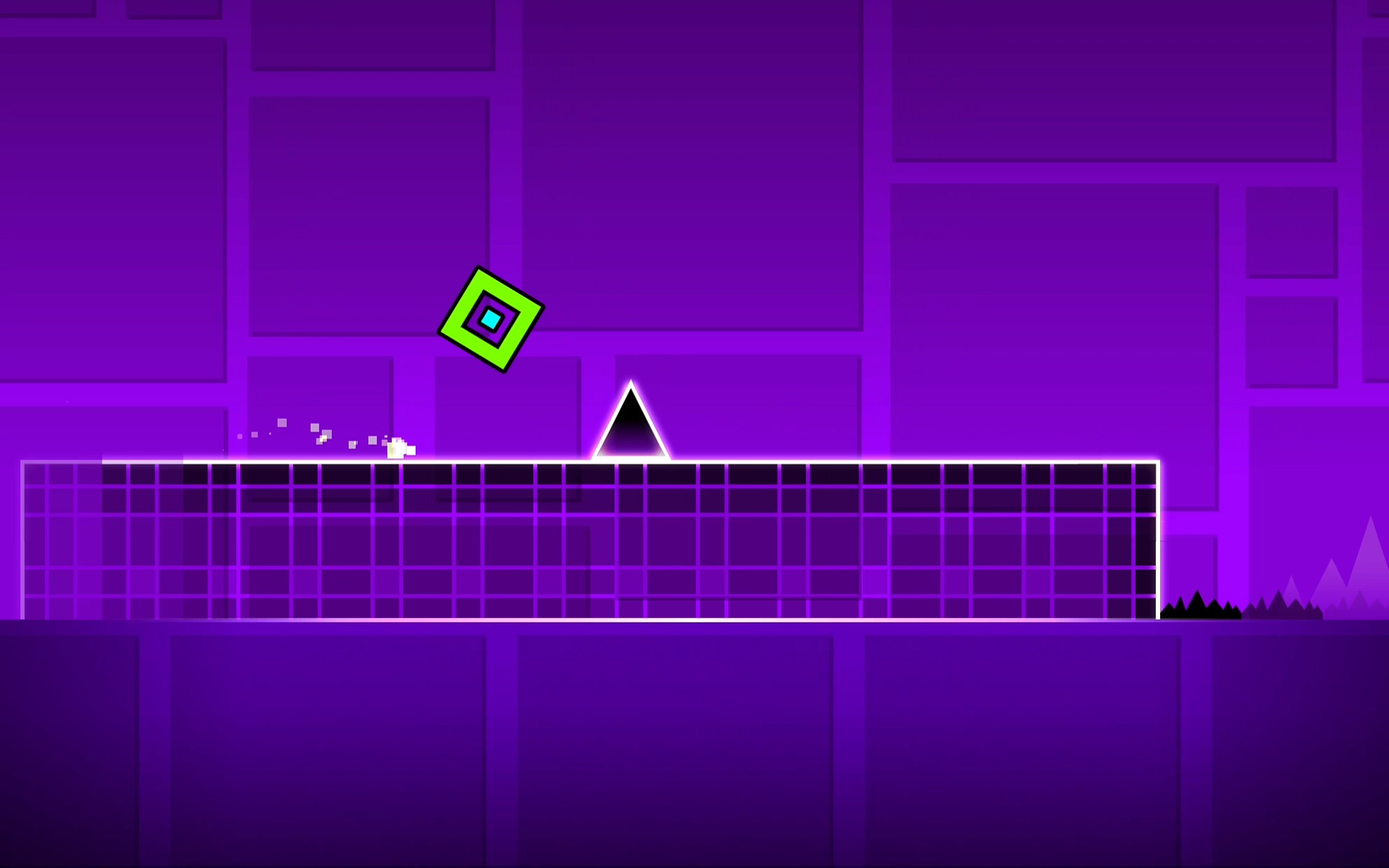Block2: (22, 458, 1165, 611)
Player: (436, 267, 543, 371)
Spike: (592, 382, 668, 458)
Spike3: (1161, 575, 1387, 622)
